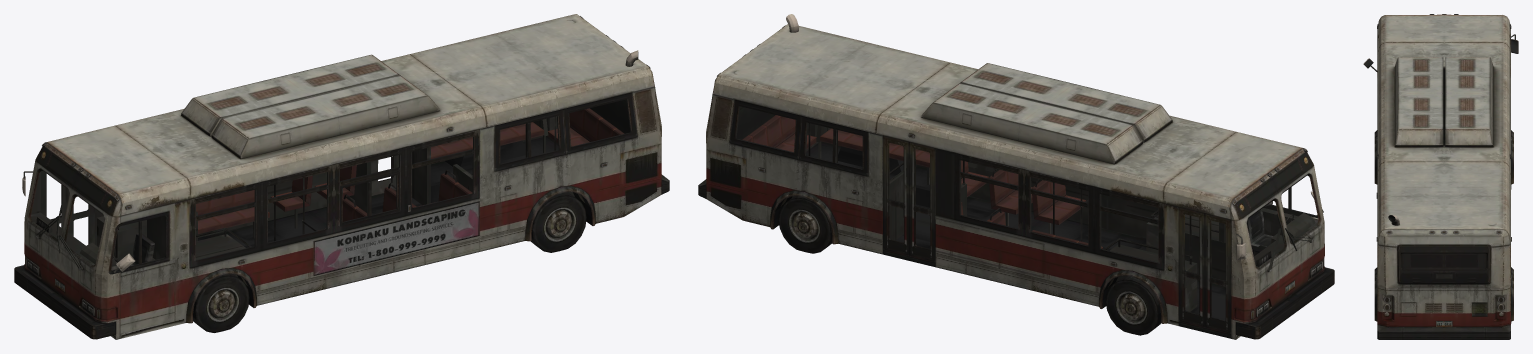
The model's file is onibus.gltf.
The picture shows the model from 3 angles, left to right: view 1: azimuth 30°, elevation 25°; view 2: azimuth 150°, elevation 25°; view 3: azimuth 270°, elevation 25°; orthographic projection. The views are drawn at different scales.
Visible parts, largest first — view 1: onibus; view 2: onibus; view 3: onibus.
Part boxes in pixels (x1,y1,x2,y2): onibus: [14, 14, 669, 339]; onibus: [698, 14, 1334, 339]; onibus: [1363, 14, 1518, 339].
Size of the model in its own units: 10.6 by 3.1 by 2.99.
Materials: 1 (1 with a texture image).
